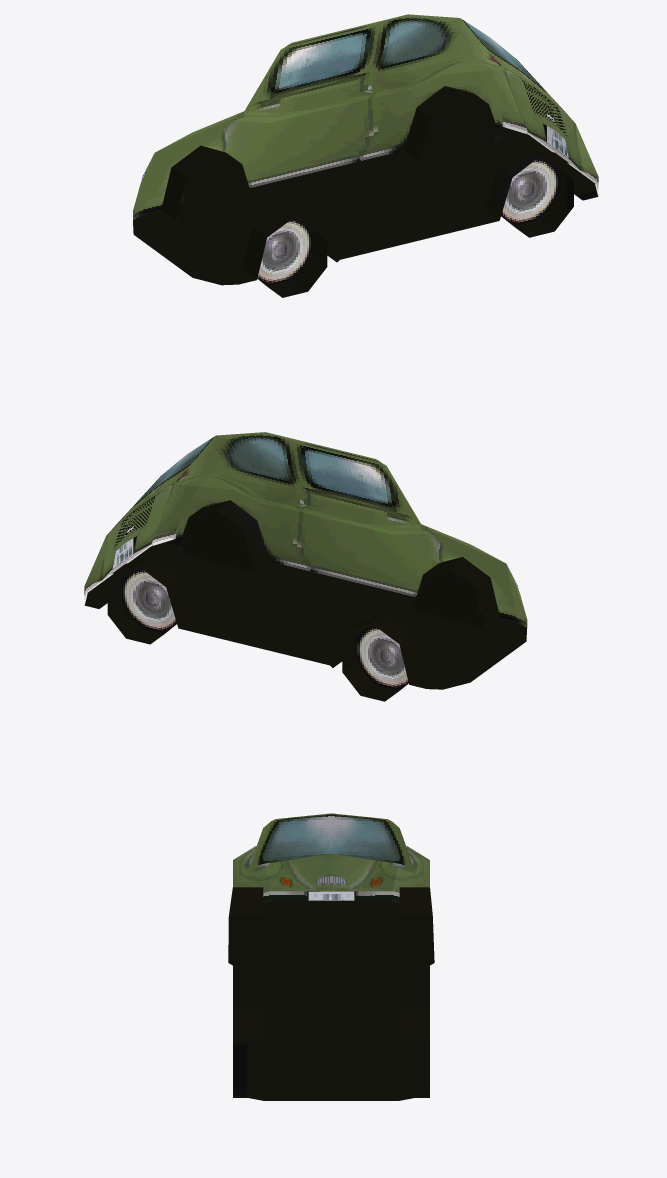
The model's file is ps2_save-icons_getbackersdakkanyadakkandayozeninshuugou.glb.
3 renders of one model, top to bottom at view 1: azimuth 30°, elevation 25°; view 2: azimuth 150°, elevation 25°; view 3: azimuth 270°, elevation 25°, orthographic. The views are drawn at different scales.
Parts seen in each view (by area): view 1: gb2icon.ico; view 2: gb2icon.ico; view 3: gb2icon.ico.
Part boxes in pixels (<box>): gb2icon.ico: <box>133,14,598,297</box>; gb2icon.ico: <box>84,432,527,701</box>; gb2icon.ico: <box>228,813,434,1100</box>.
Size of the model in its own units: 4.84 by 1.73 by 5.05.
1 material, 1 textured.
